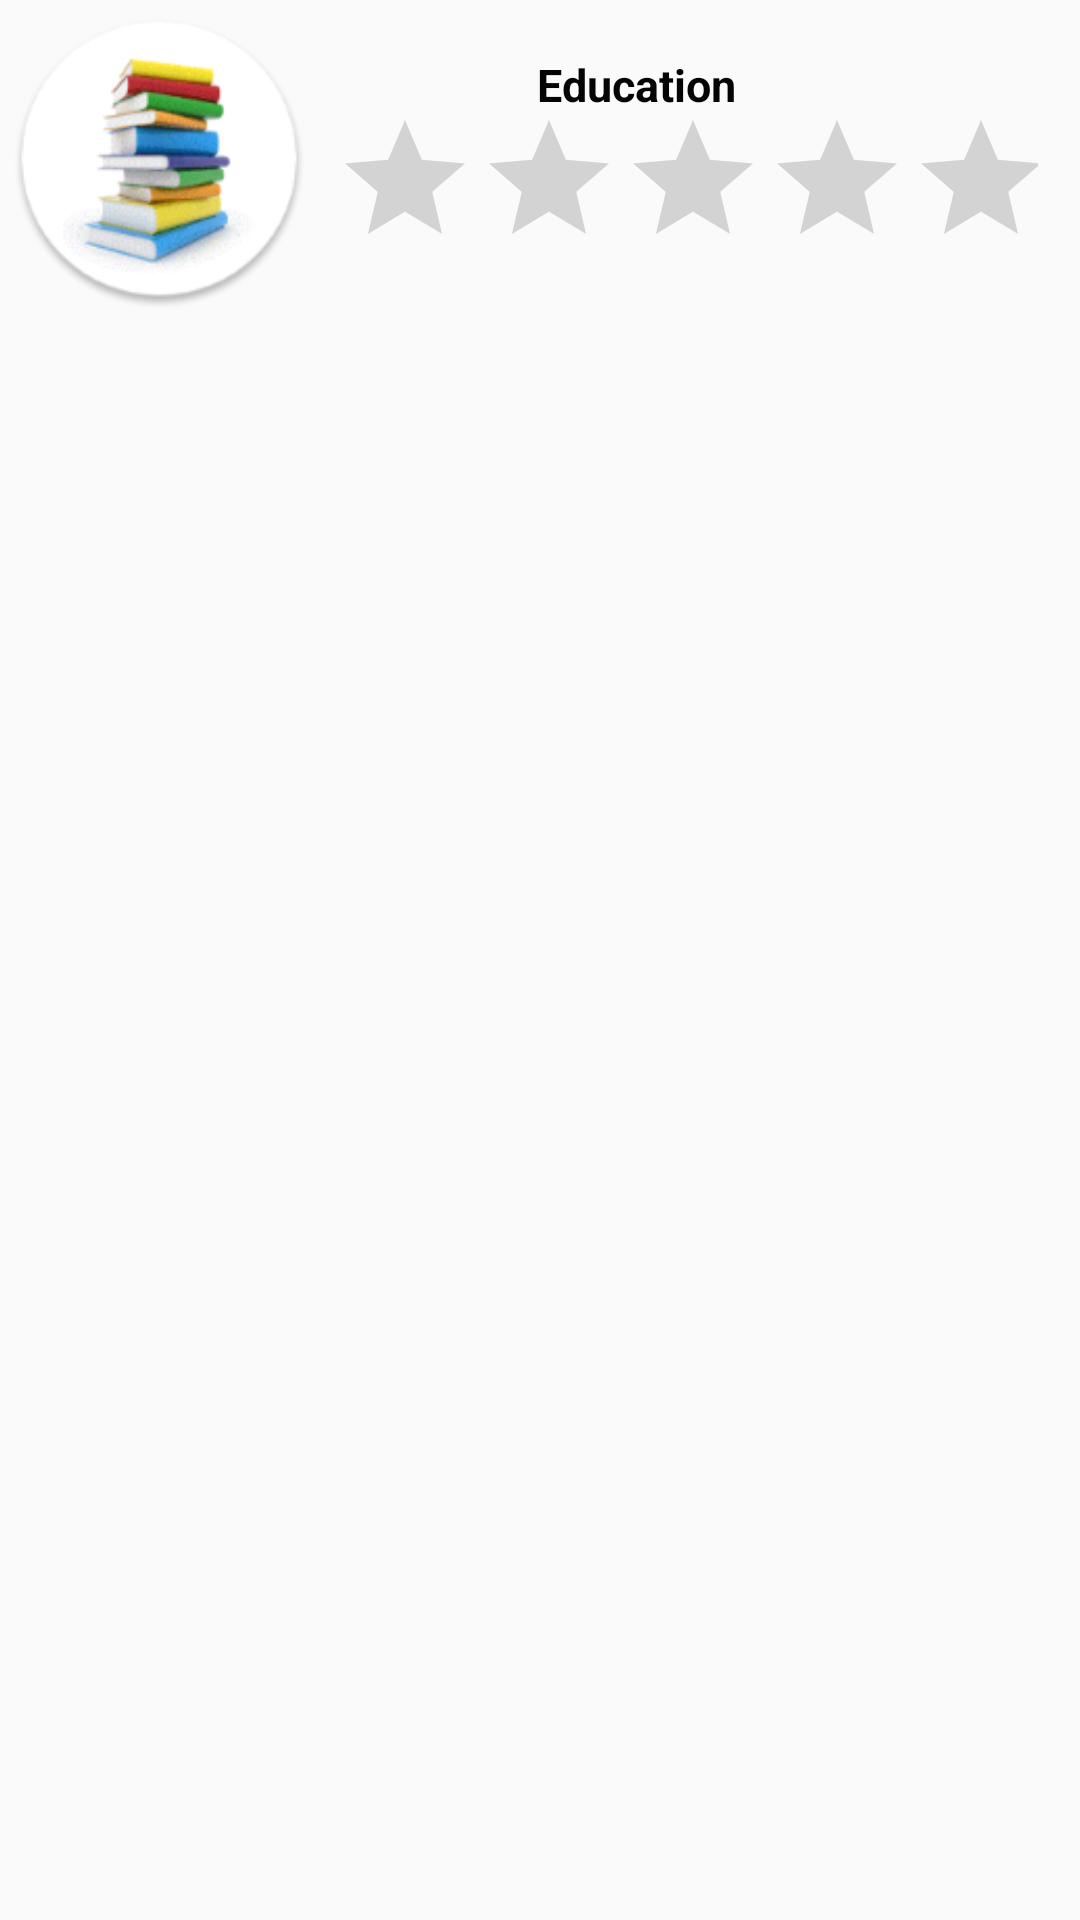

Where icons sit on this 1080 × 1920 app screen, as (x1, y1, x2, y2):
edu: (20, 58, 299, 303)
